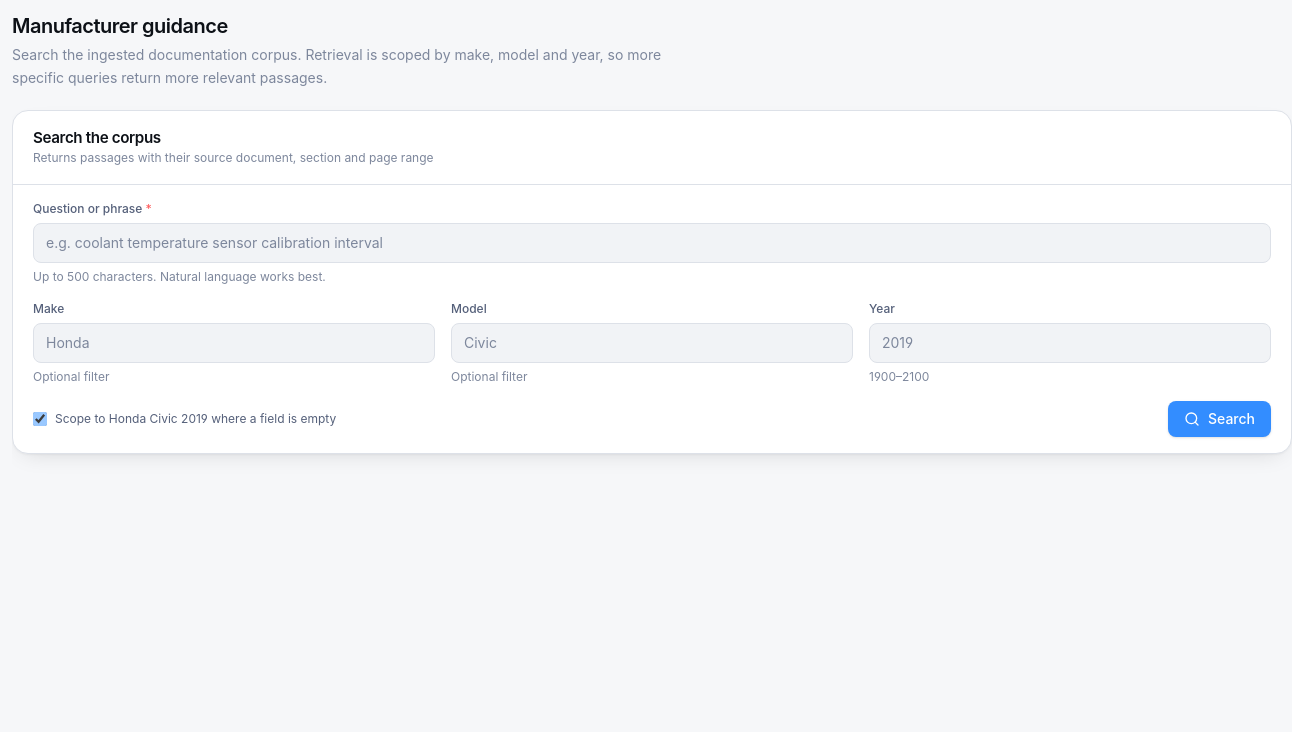
RagSearchView › presents a reachable-but-empty result as an empty state, not an outage
The width and height of the screenshot is (1292, 732).
Step 1. Type "brake wear" into the field labelled "Question or phrase *" → (652, 243), box [33,223,1271,263]
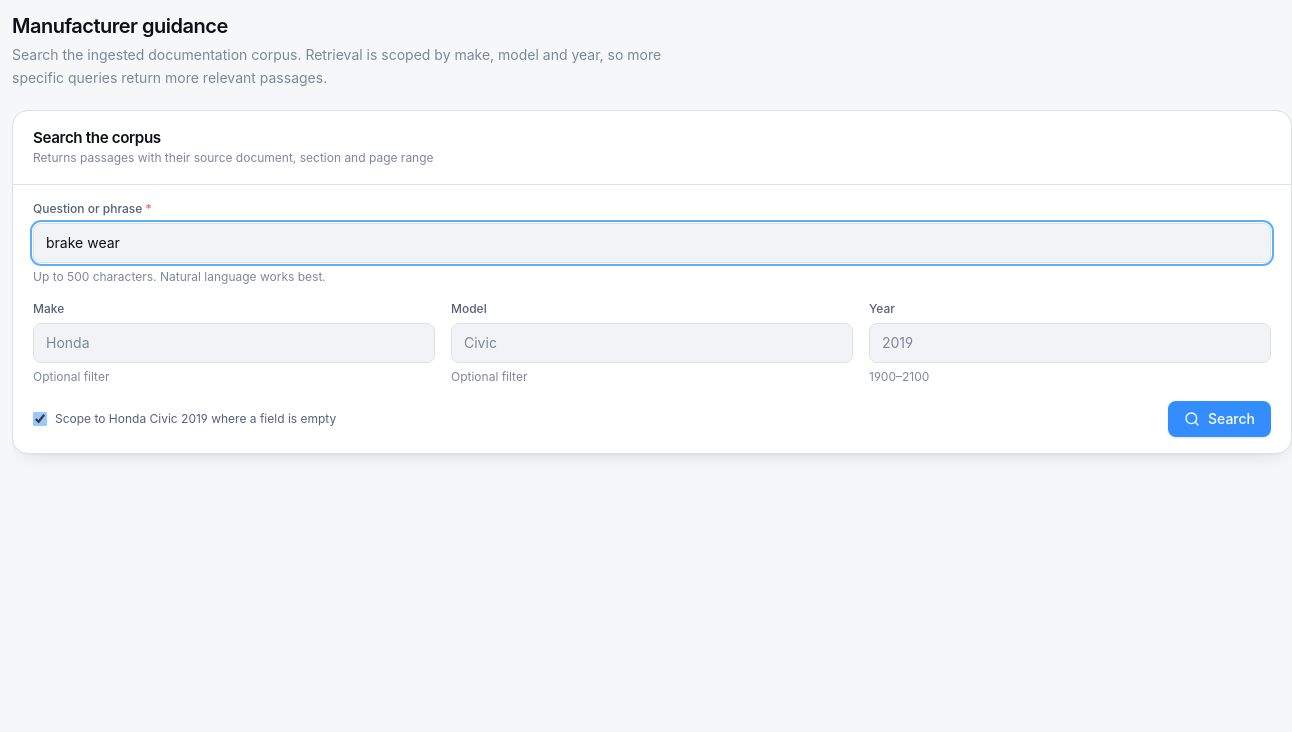
Step 2. Click the button "Search" → (1220, 419), box [1168,401,1271,437]
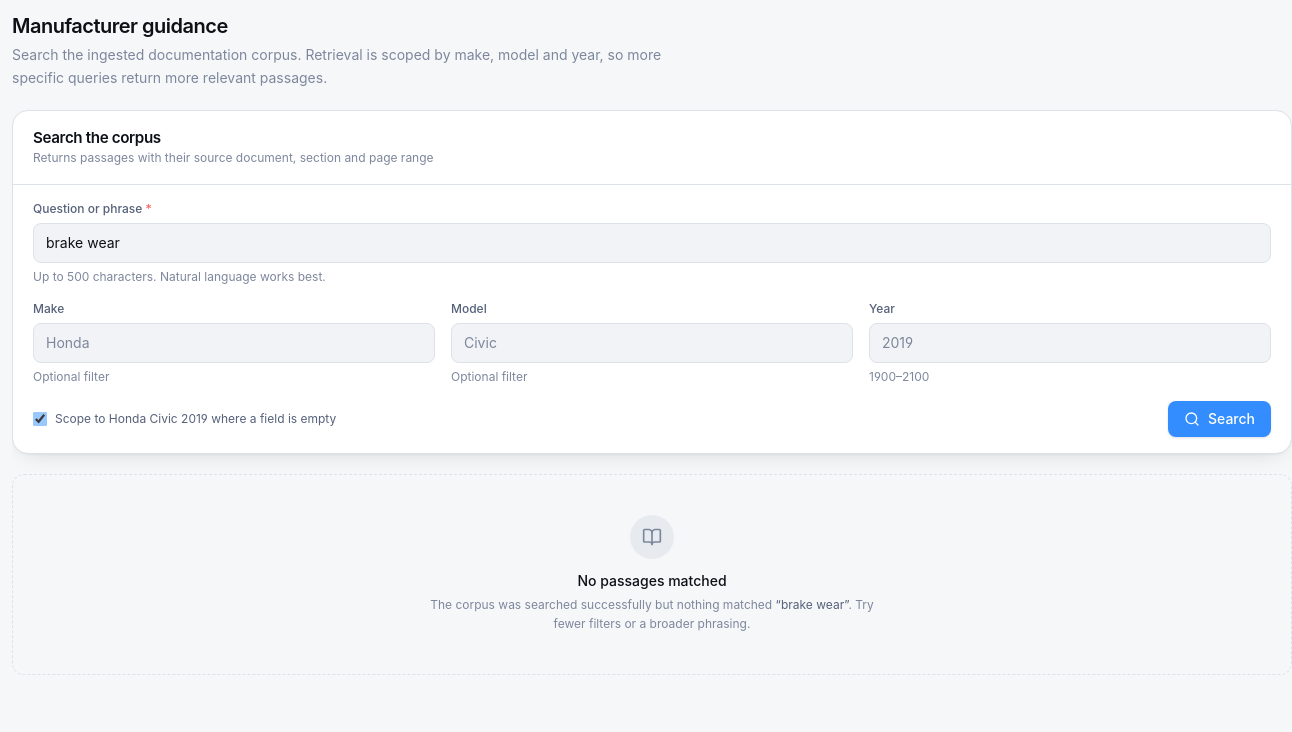
Expected: the text "No passages matched" is shown, [577,572,726,589]
Expected: the text "searched successfully but nothing matched" is shown, [430,597,772,612]
